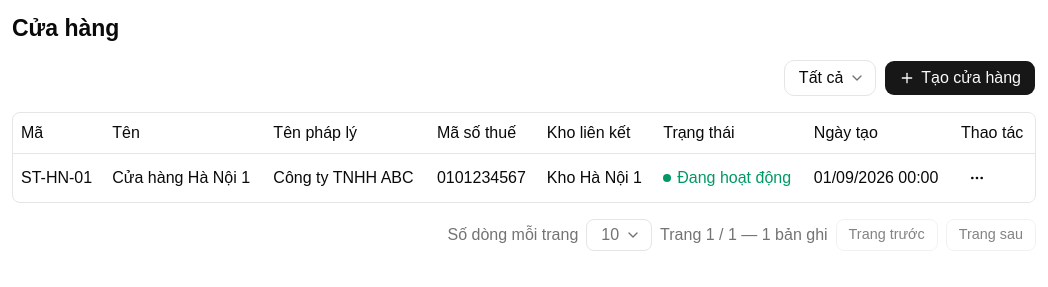
Test: StoresPage — trang và bộ lọc trên URL › lọc trạng thái ghi isActive lên URL và lên request
Expected: the link "Cửa hàng Hà Nội 1" is shown, x1=112 y1=166 x2=250 y2=190
Click the dropdown named "Trạng thái": (830, 78) x1=784 y1=60 x2=876 y2=96
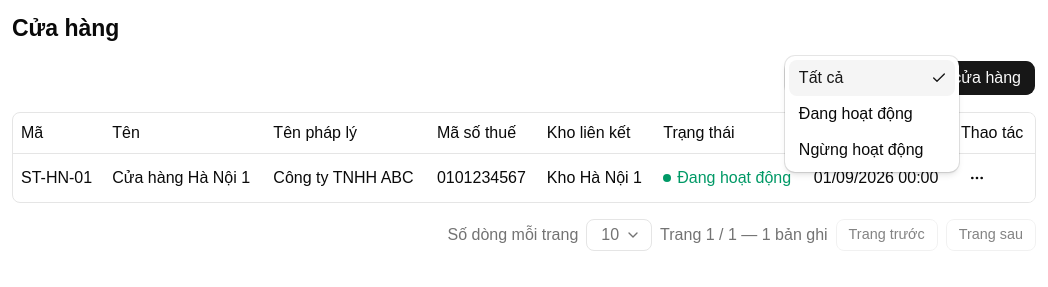
Click the option "Ngừng hoạt động": (861, 150) x1=799 y1=141 x2=924 y2=158
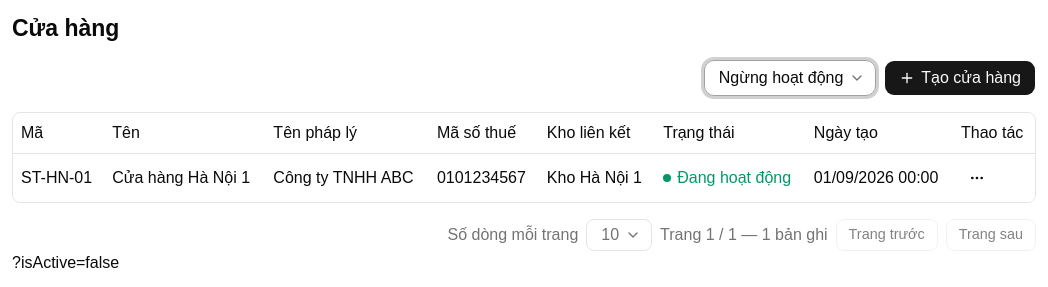
Expected: the text with test id "location" shows "isActive=false", x1=12 y1=254 x2=119 y2=270
